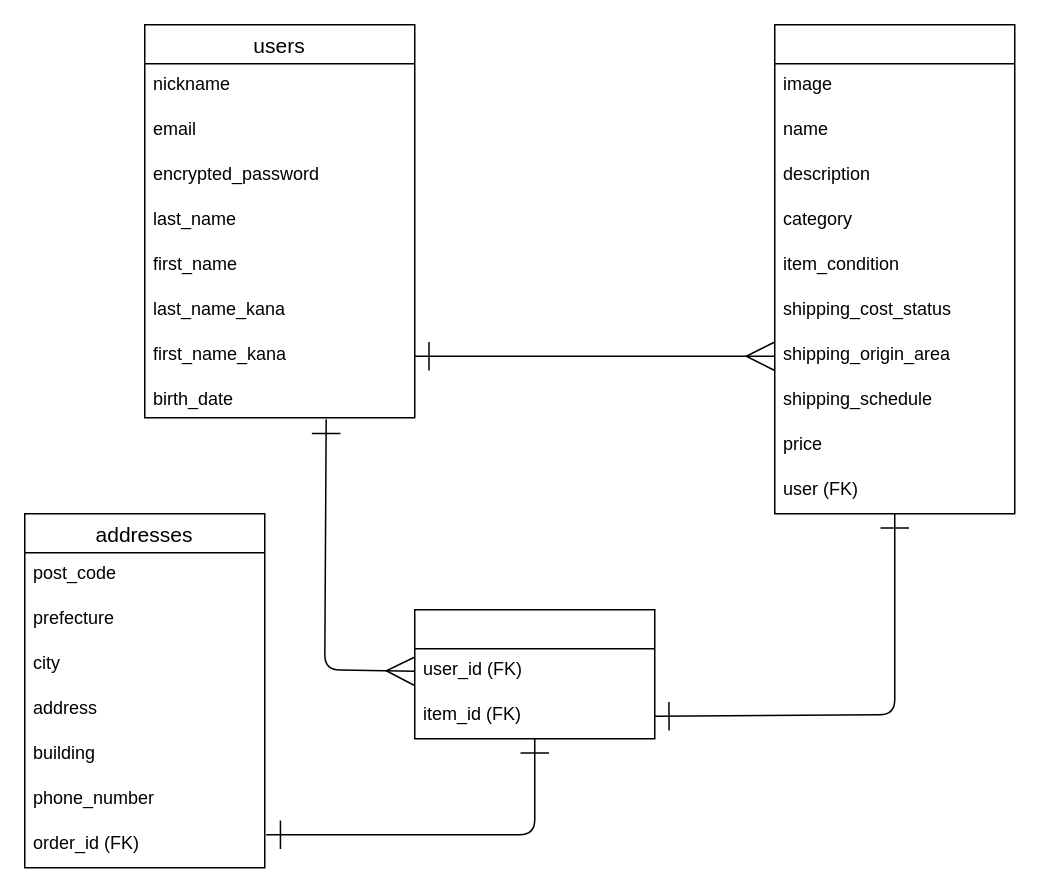
The diagram is 1040 pixels wide and 893 high, and some of its shapes have lost their labels. The box of each missing label's shape, as (x1, y1, x2, y2) in pixels:
items: (773, 23, 1015, 514)
orders: (413, 608, 655, 739)
